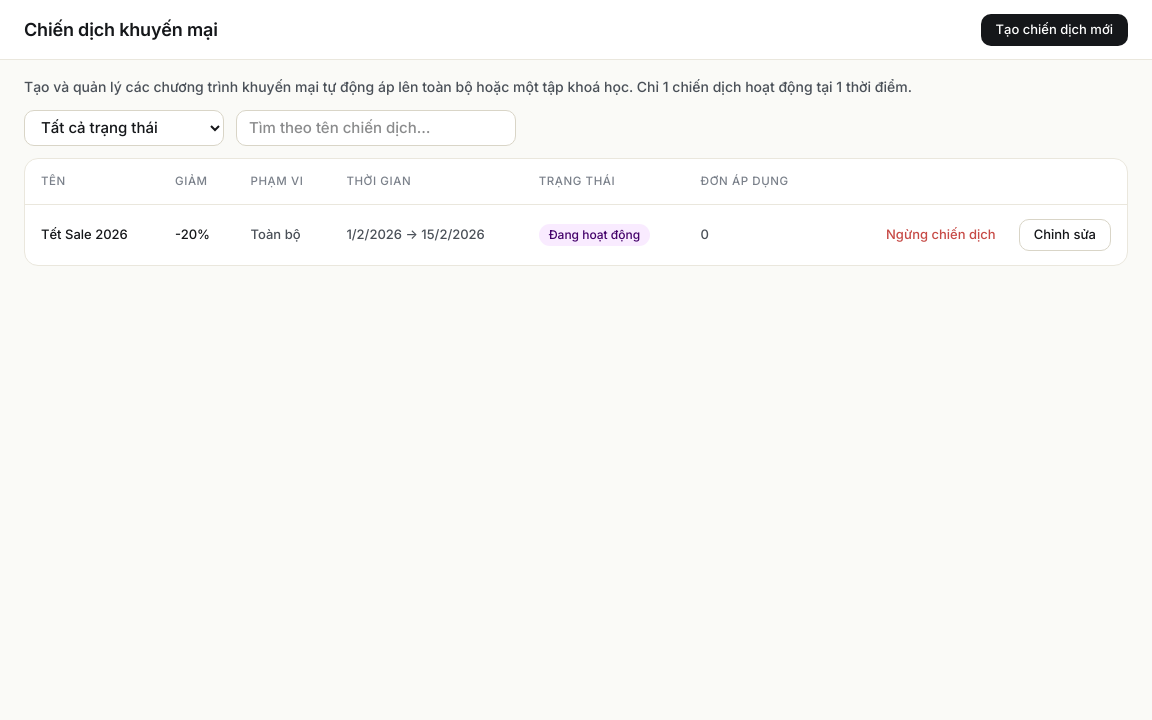
Test: AdminCampaignsPage › opens the create modal when Create is clicked
What coordinates should you click on to do the following:
click the button with test id "admin-campaigns-create-btn"
I would click on:
 (1054, 30)
Its box is [980, 14, 1128, 46].
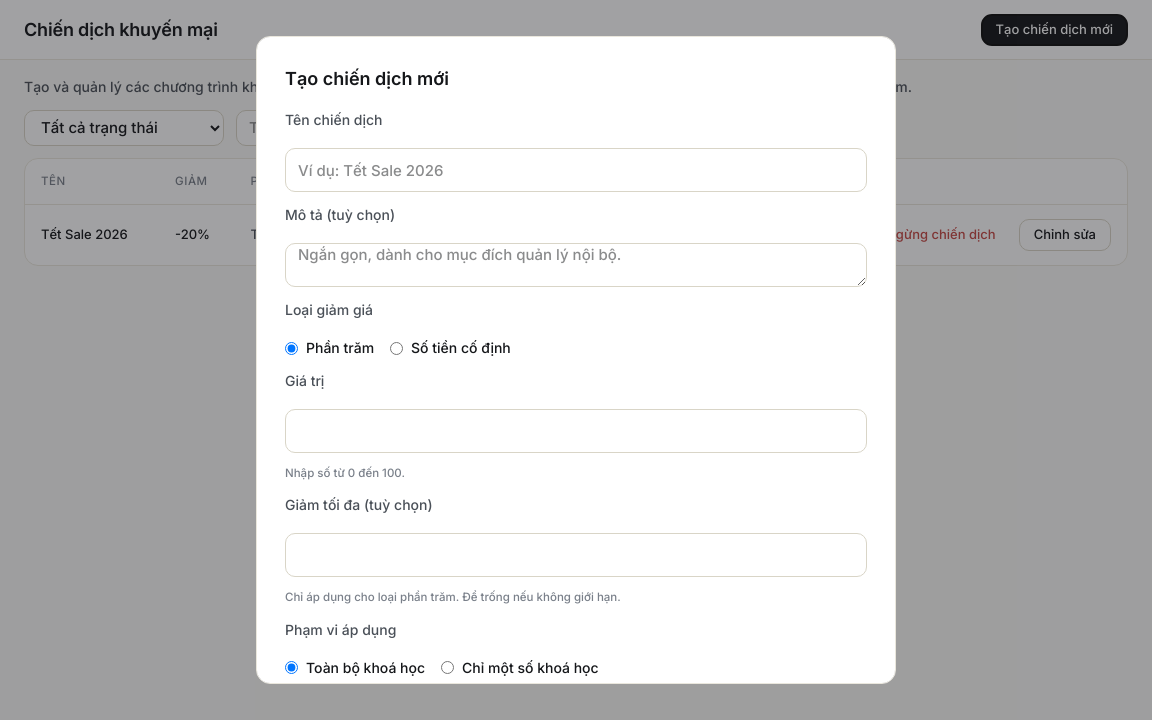
Expected: the dialog with test id "admin-campaigns-form-dialog" is shown
